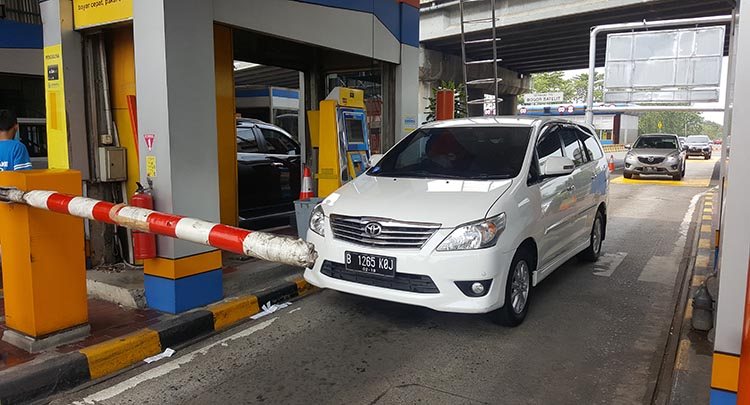plate: (337, 251, 396, 274)
